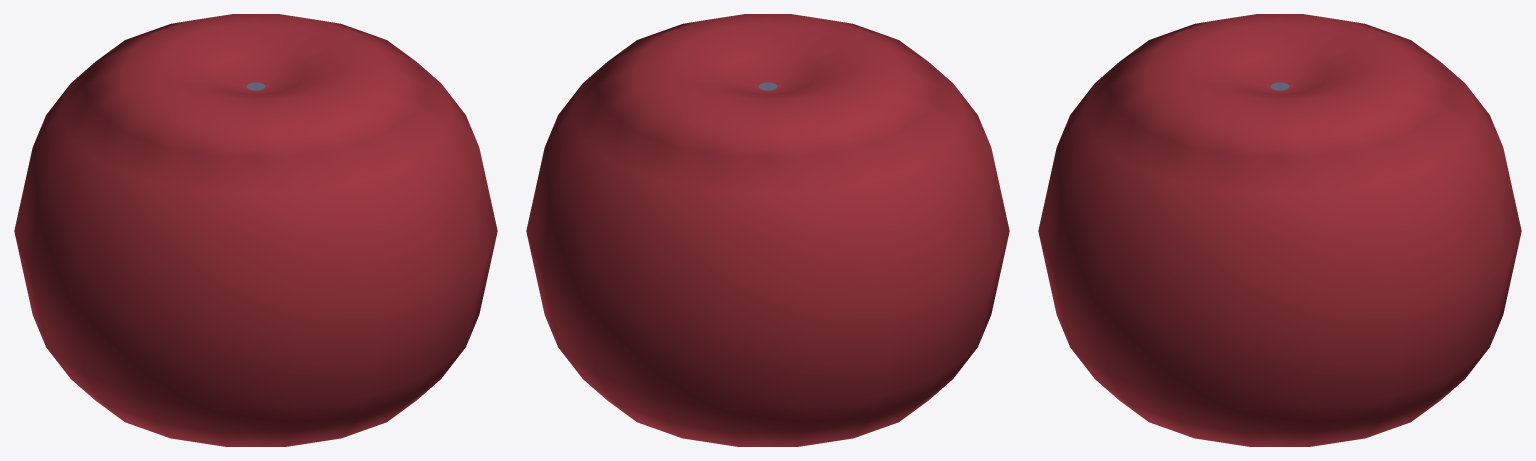
The model's file is apple.fbx.
3 views of the same model, side by side, from view 1: azimuth 30°, elevation 25°; view 2: azimuth 150°, elevation 25°; view 3: azimuth 270°, elevation 25° (orthographic).
Parts seen in each view (by area): view 1: Apple; view 2: Apple; view 3: Apple.
Boxes of the visible parts, bbox=[...] form: Apple: bbox=[14, 14, 497, 446]; Apple: bbox=[526, 14, 1009, 446]; Apple: bbox=[1038, 14, 1521, 446].
Size of the model in its own units: 38.25 by 28.57 by 38.84.
